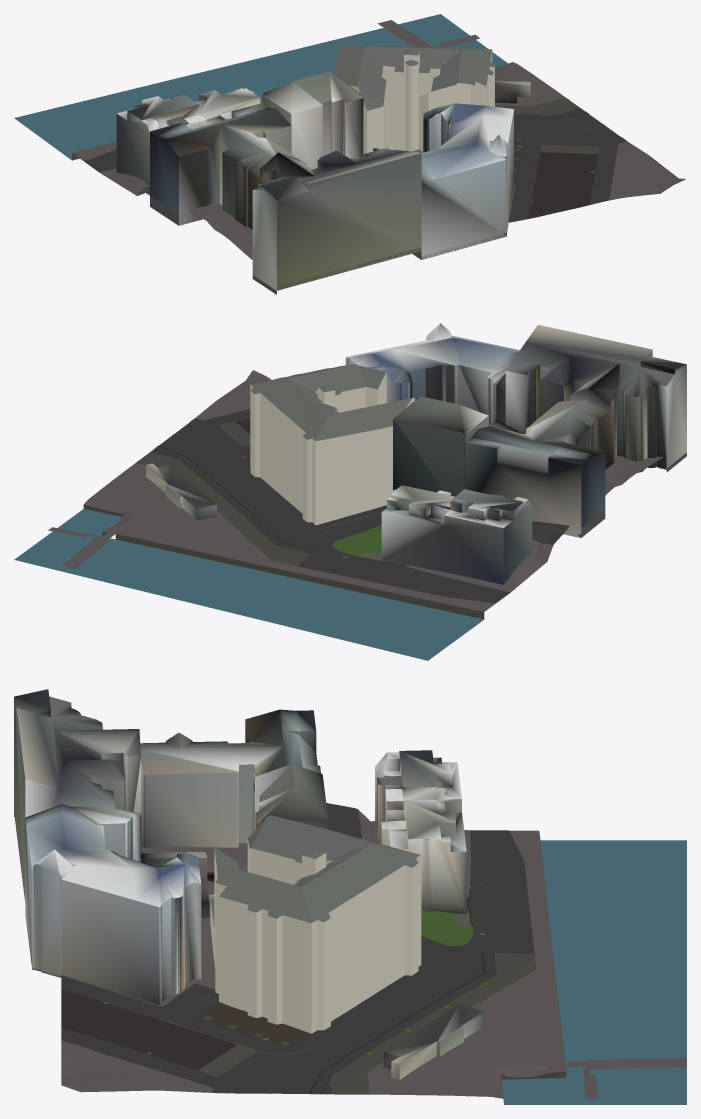
The picture shows the model from 3 angles, top to bottom: view 1: azimuth 30°, elevation 25°; view 2: azimuth 150°, elevation 25°; view 3: azimuth 270°, elevation 25°; orthographic projection. The views are drawn at different scales.
Visible parts, largest first — view 1: c_p04_p00; view 2: c_p04_p00; view 3: c_p04_p00.
Part boxes in pixels (left/top/right/bottom): c_p04_p00: left=14, top=14, right=685, bottom=294; c_p04_p00: left=14, top=323, right=686, bottom=660; c_p04_p00: left=14, top=689, right=686, bottom=1104.
Bounding box in the file's own units: 131 × 34.5 × 138.
